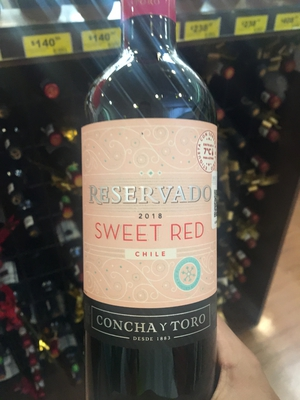reservado sweet red: (58, 6, 245, 379)
